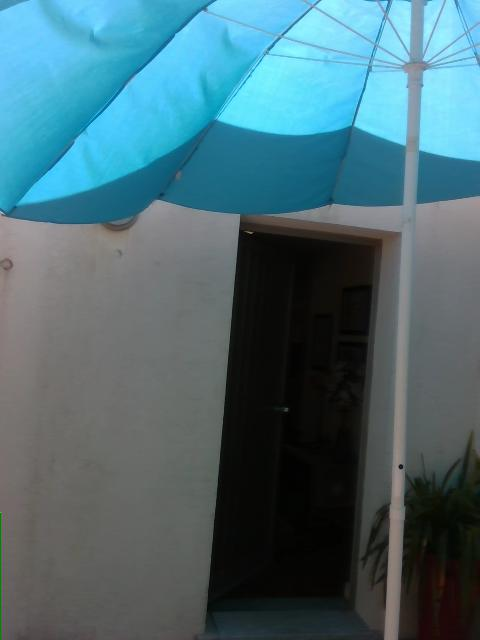semi_door: (209, 207, 384, 613)
